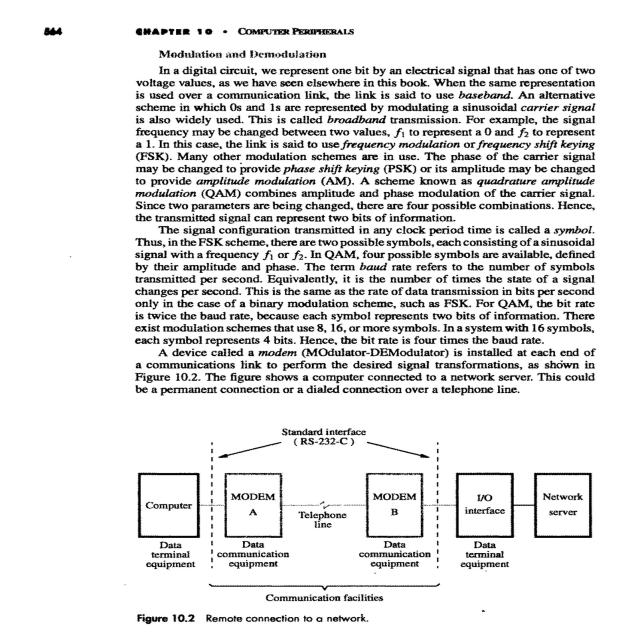diagram: (66, 398, 640, 640)
